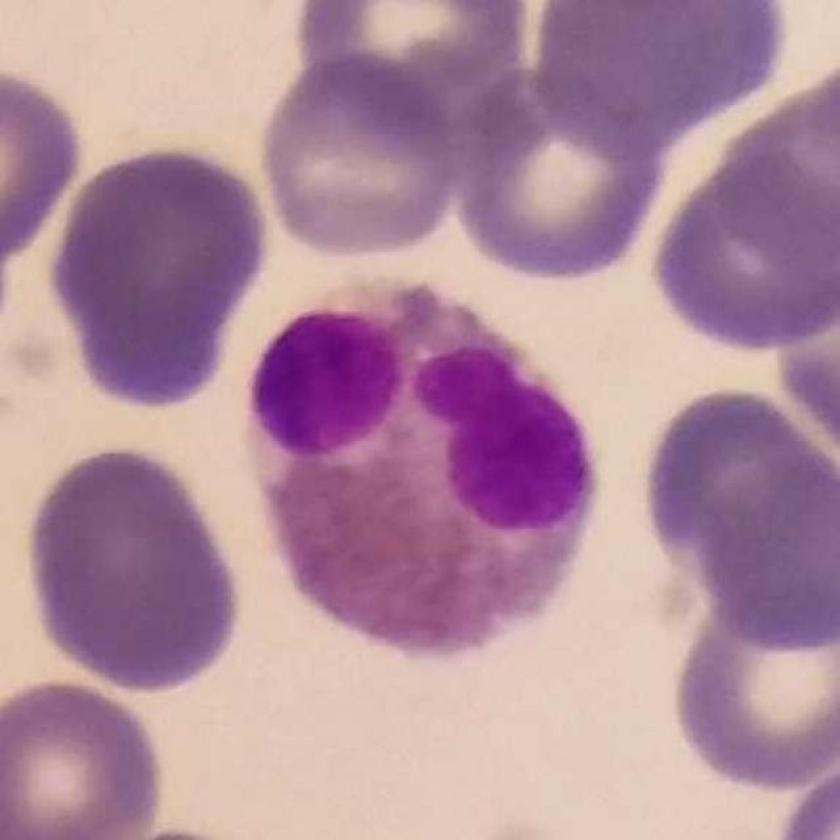eosinophil: (248, 287, 593, 667)
